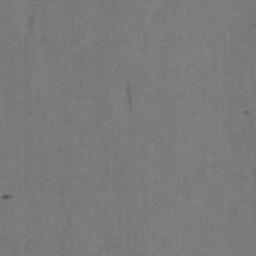Inclusion: (126, 85, 133, 111), (1, 194, 12, 200)
